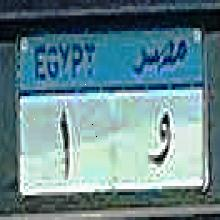1: (60, 106, 70, 174)
waw: (147, 106, 175, 166)
